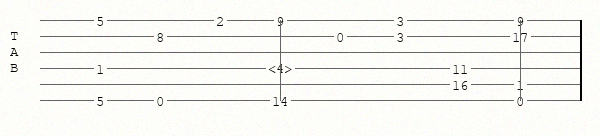0: (156, 94, 168, 107), (336, 30, 348, 43), (516, 94, 528, 107)
1: (96, 62, 108, 75), (516, 78, 528, 91)
11: (452, 62, 472, 75)
14: (272, 94, 292, 107)
16: (452, 78, 472, 91)
17: (512, 30, 532, 43)
2: (216, 14, 228, 27)
3: (396, 30, 408, 43), (396, 14, 408, 27)
5: (96, 14, 108, 27), (96, 94, 108, 107)
8: (156, 30, 168, 43)
9: (276, 14, 288, 27), (516, 14, 528, 27)
harmonic: (268, 61, 296, 75)
